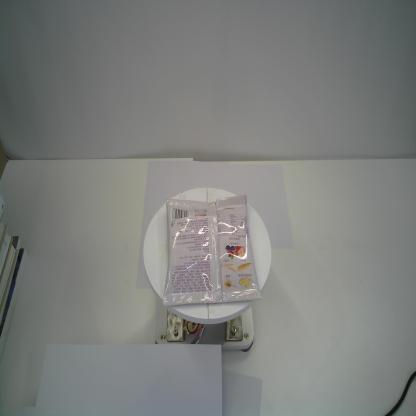Instant Drink: (163, 194, 261, 307)
